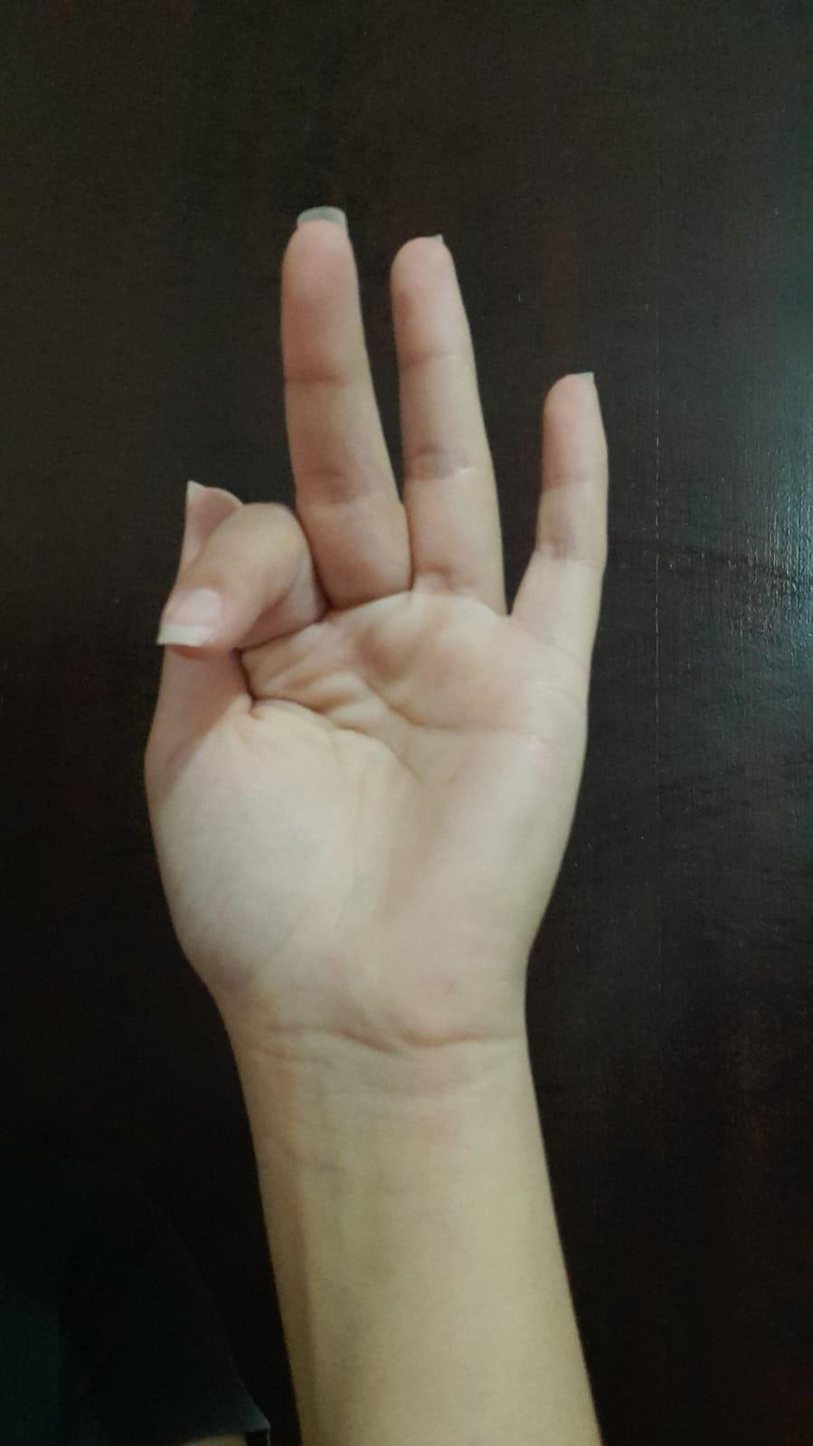F: (127, 181, 629, 1017)
